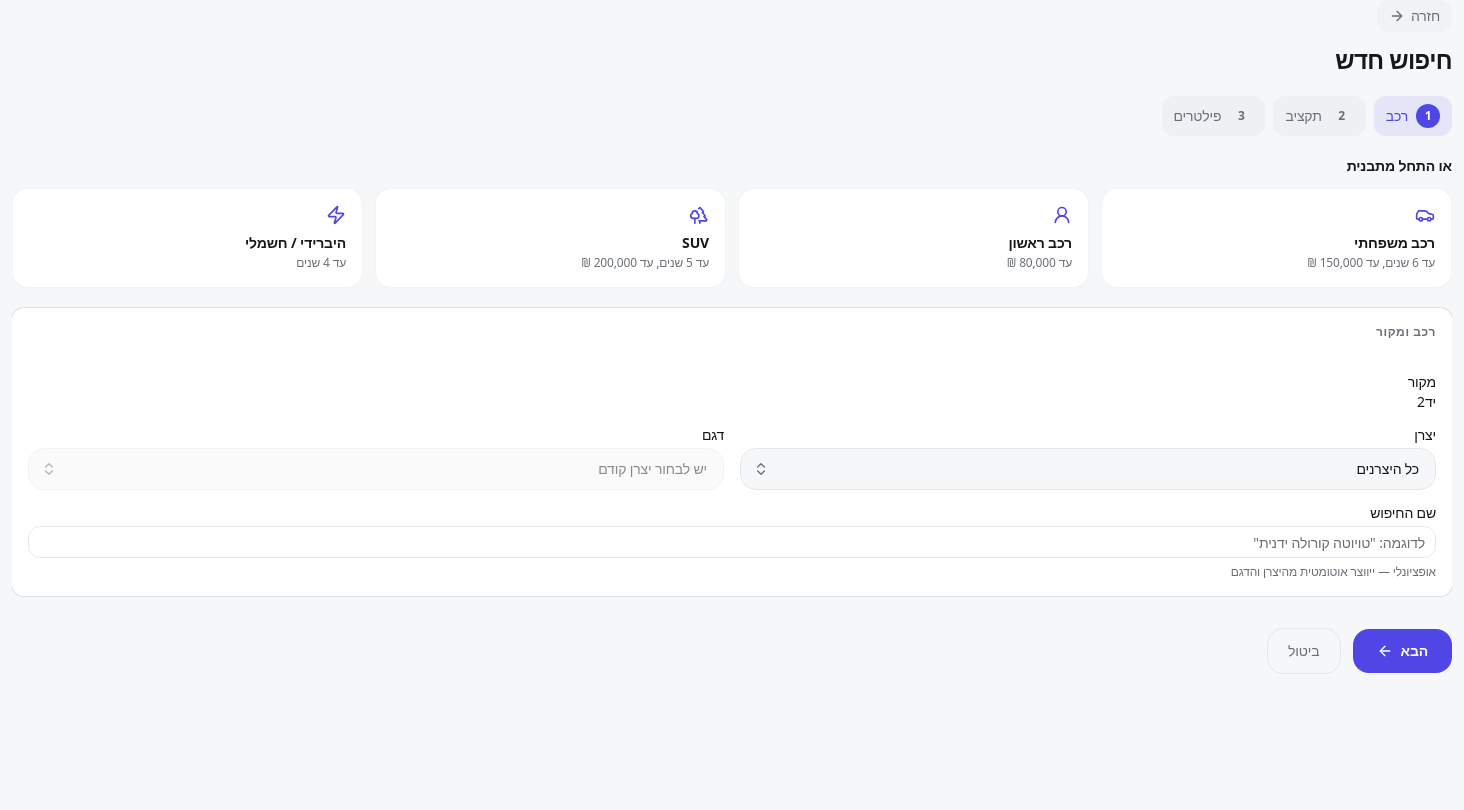
Test: NewSearchPage presets › fills priceMax when 'רכב ראשון' preset is clicked
The width and height of the screenshot is (1464, 810).
Click the button "רכב ראשון עד 80,000 ₪".
click(1040, 242)  # box [738,188,1089,288]
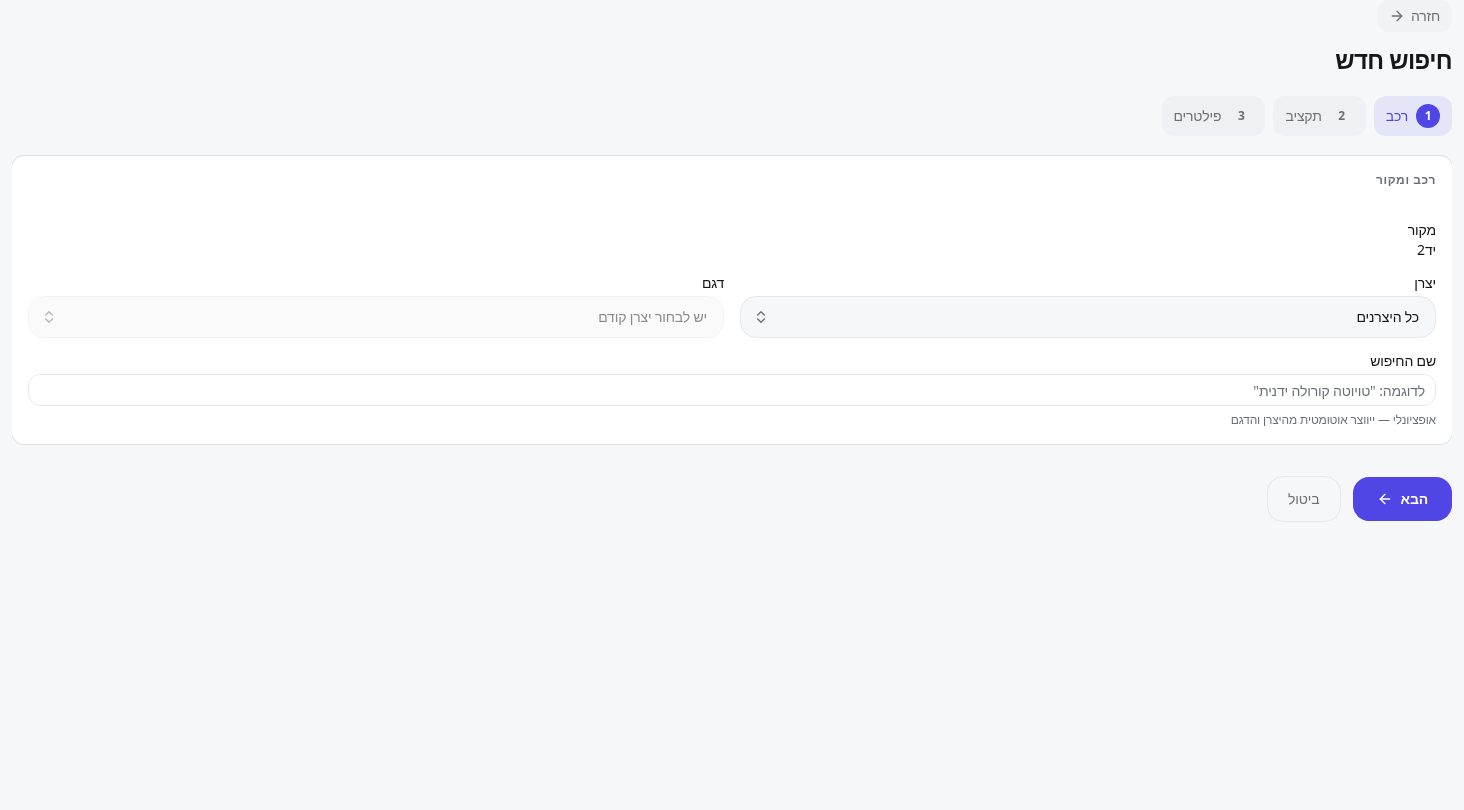
Click the button "הבא".
click(1402, 499)  # box [1352,477,1452,521]
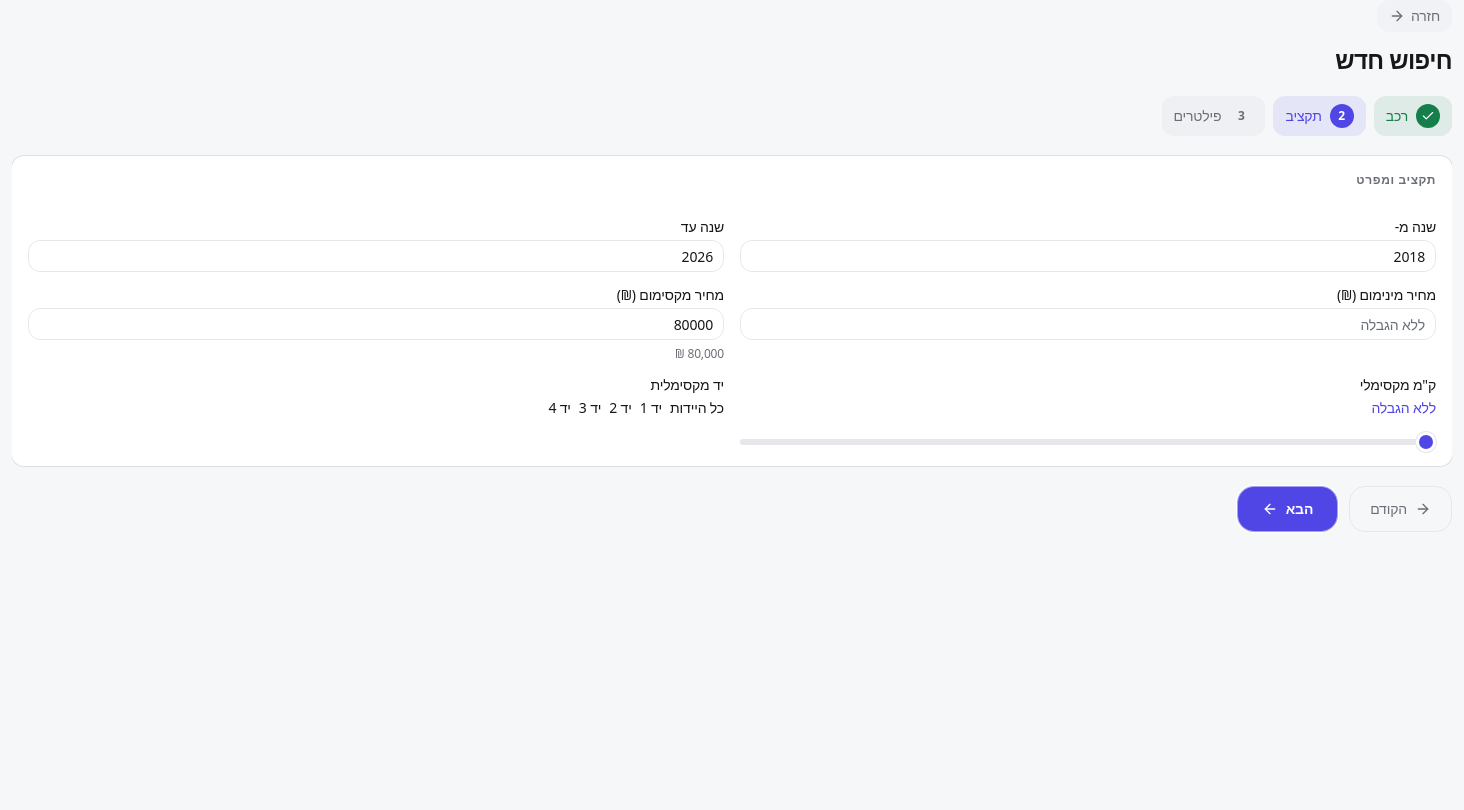
expect the number field labelled "מחיר מקסימום (₪)" holds "80000": met, box [28,308,724,340]
